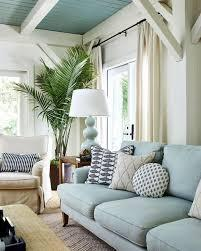chair: (0, 131, 50, 213)
door: (102, 68, 137, 149)
light: (69, 81, 111, 154)
sofa: (62, 137, 201, 251)
table: (0, 202, 60, 251), (57, 156, 92, 199)
